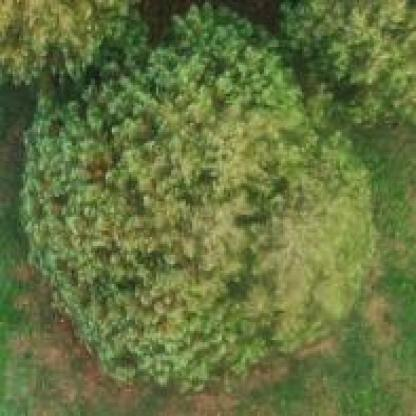Coniferous Tree: (57, 31, 386, 367), (276, 0, 416, 125), (0, 0, 118, 78)
